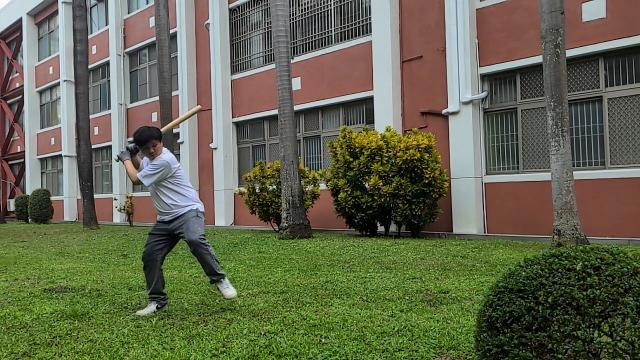bat: (135, 102, 203, 150)
